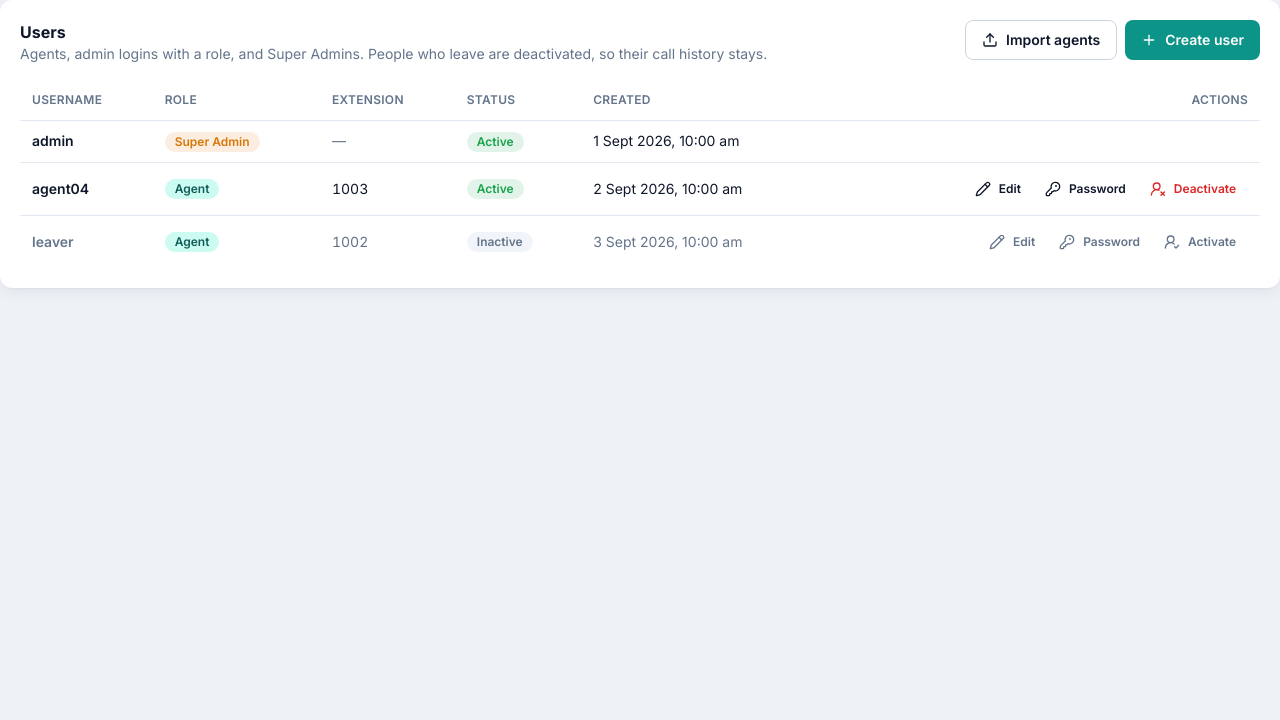
Test: Users › a team leader / manager creates agents only into one of their teams
The image size is (1280, 720).
Click the button "Create user" at (1193, 40), box [1125, 20, 1260, 60]
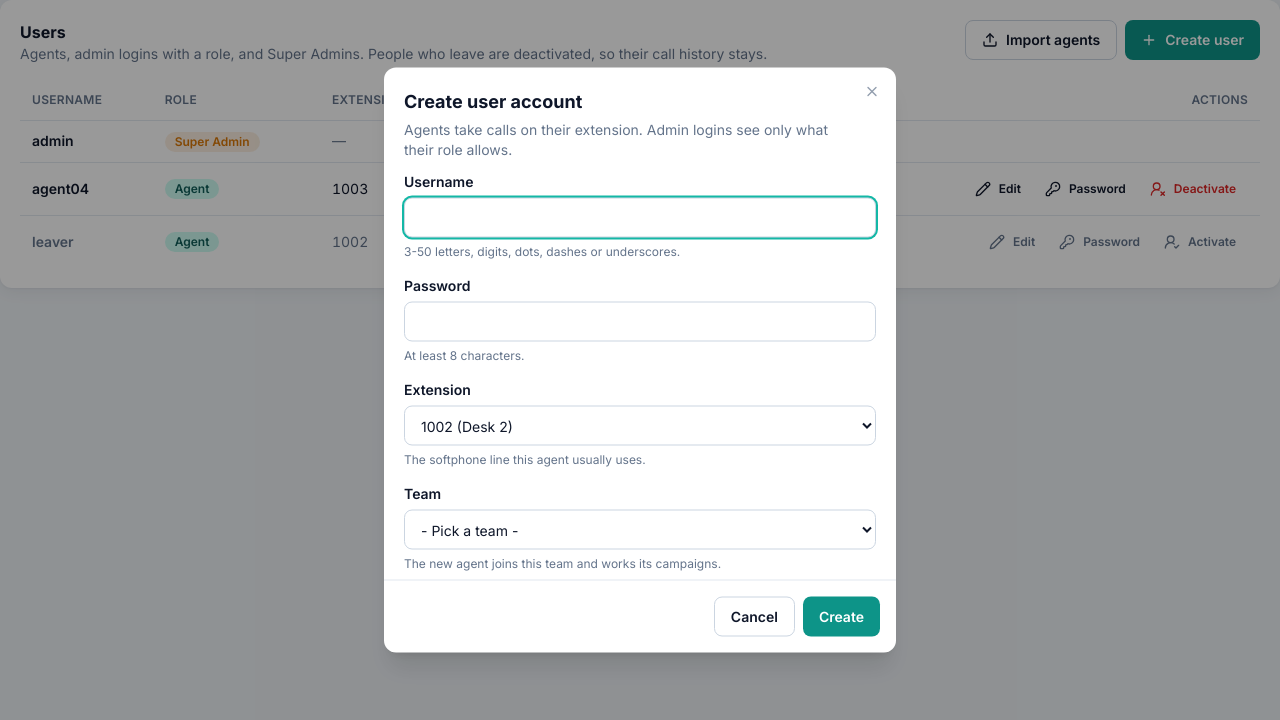
Type "agent09" into the field labelled "Username" at (640, 218), box [404, 198, 876, 238]
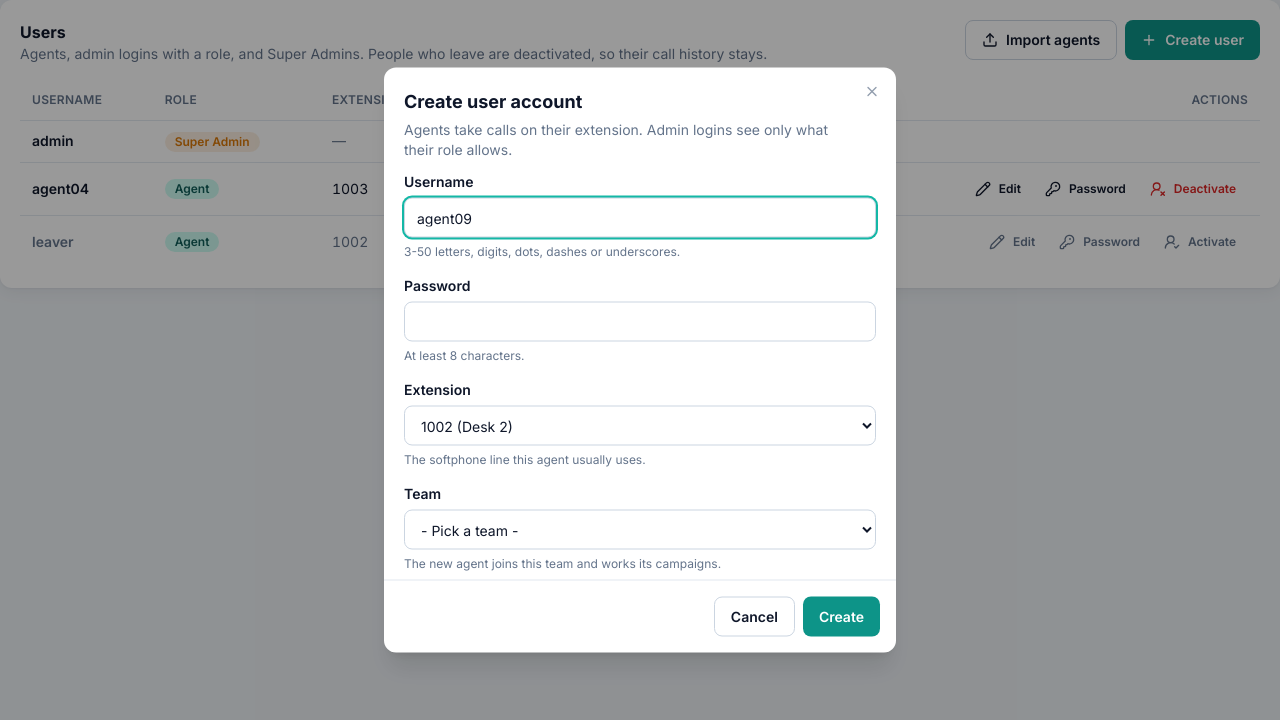
Type "pw123456" into the password field labelled "Password" at (640, 322), box [404, 302, 876, 342]
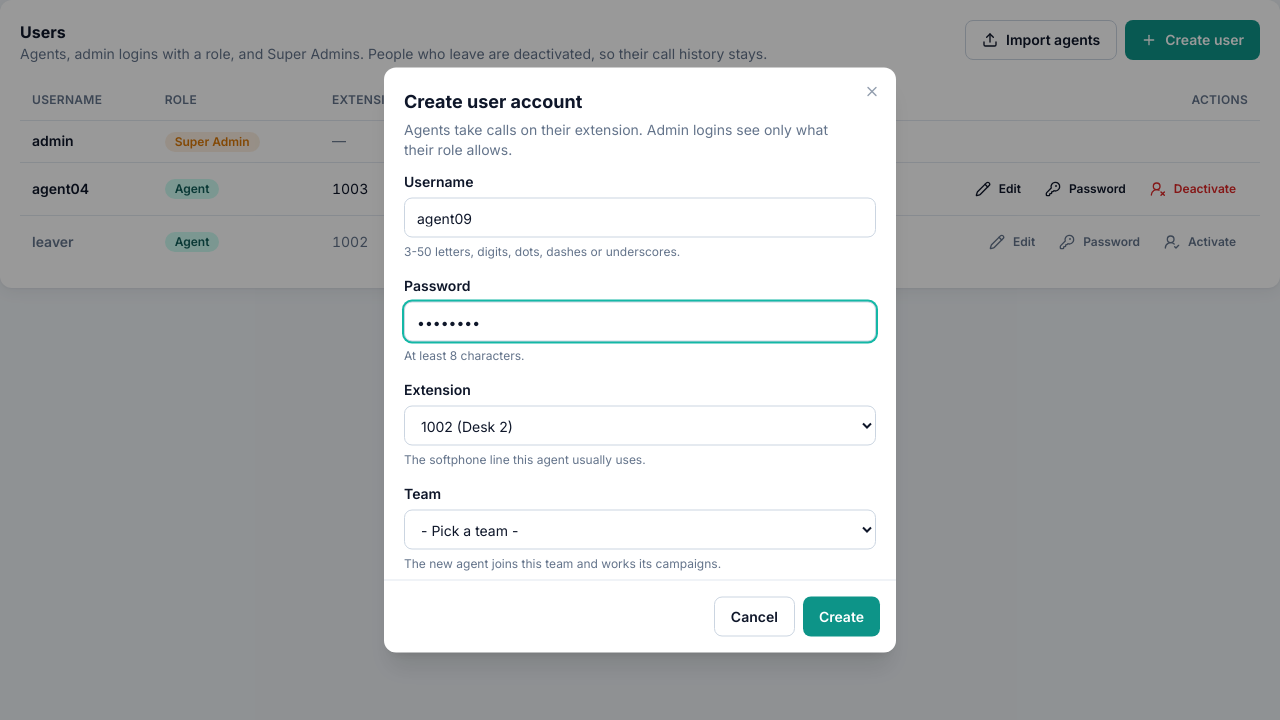
Select "TL 1" in the dropdown labelled "Team" at (640, 530), box [404, 510, 876, 550]
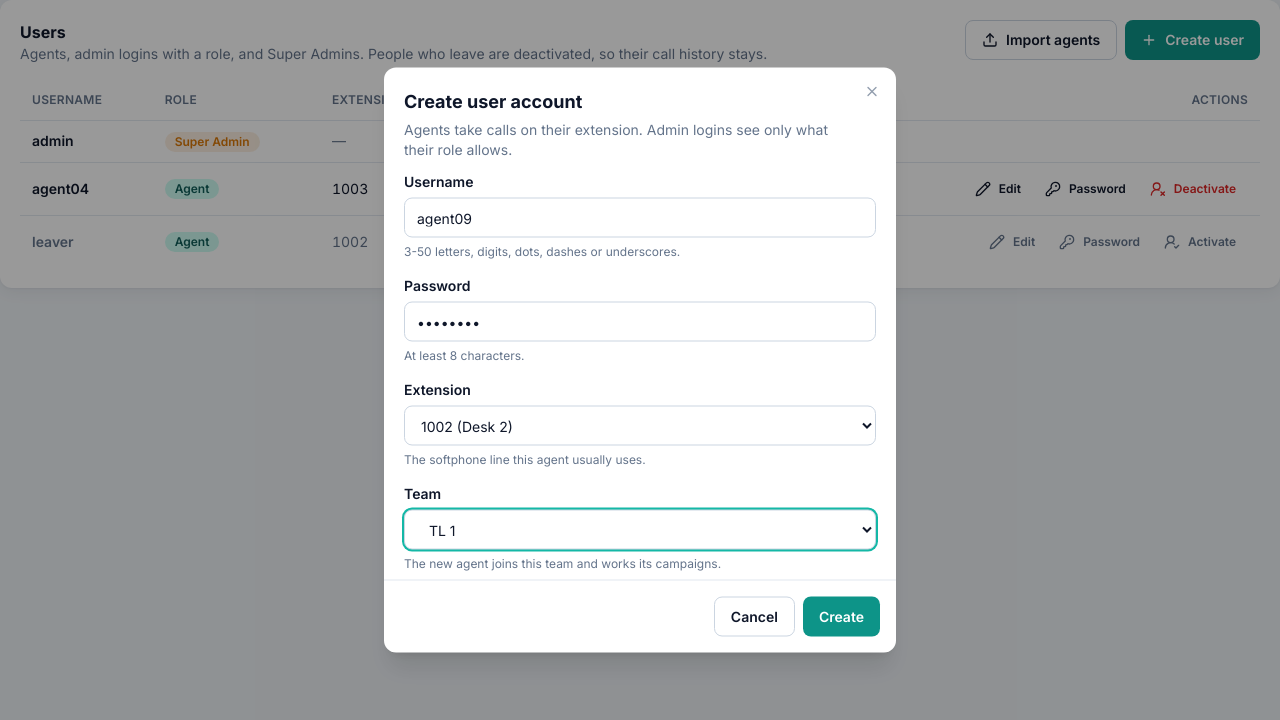
Click the button "Create" at (841, 616), box [803, 596, 880, 636]
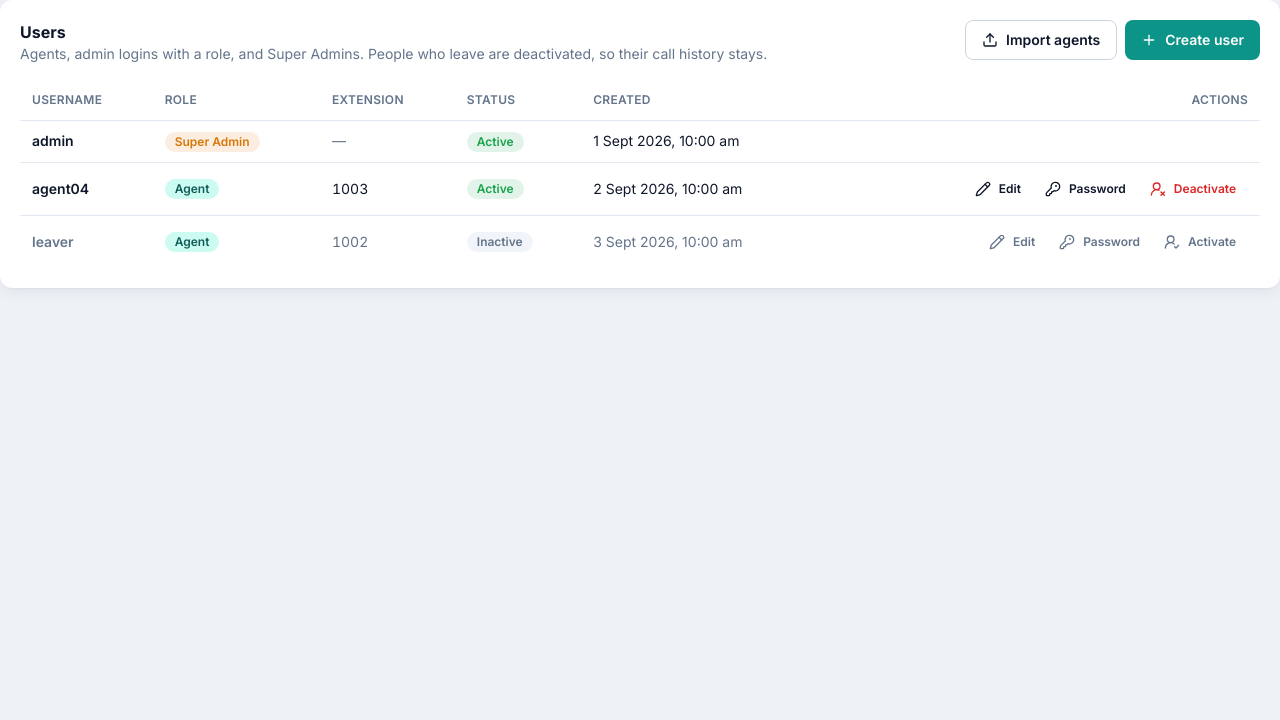
Expected: the dialog is gone
